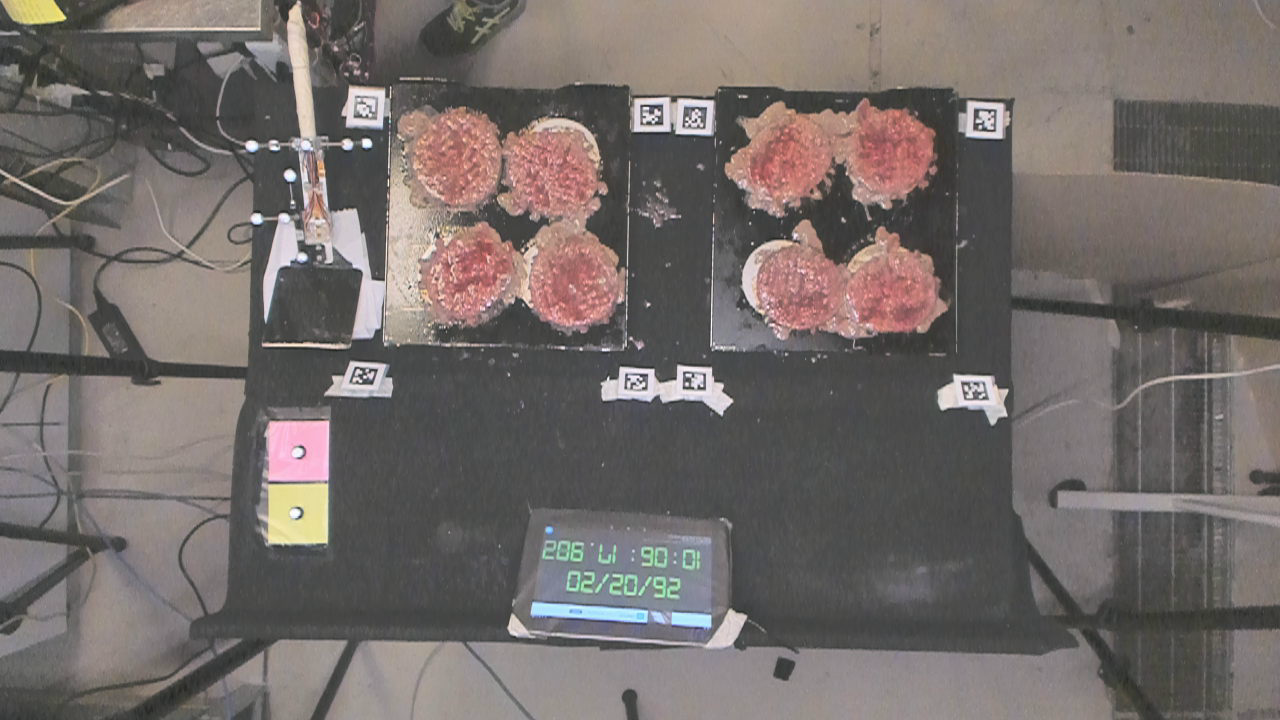hamburger: (418, 228, 509, 320), (511, 125, 599, 219), (851, 242, 937, 336), (528, 241, 618, 329), (413, 109, 498, 202), (758, 243, 846, 329), (747, 113, 827, 201), (859, 106, 934, 193)
marker: (269, 420, 330, 481)
